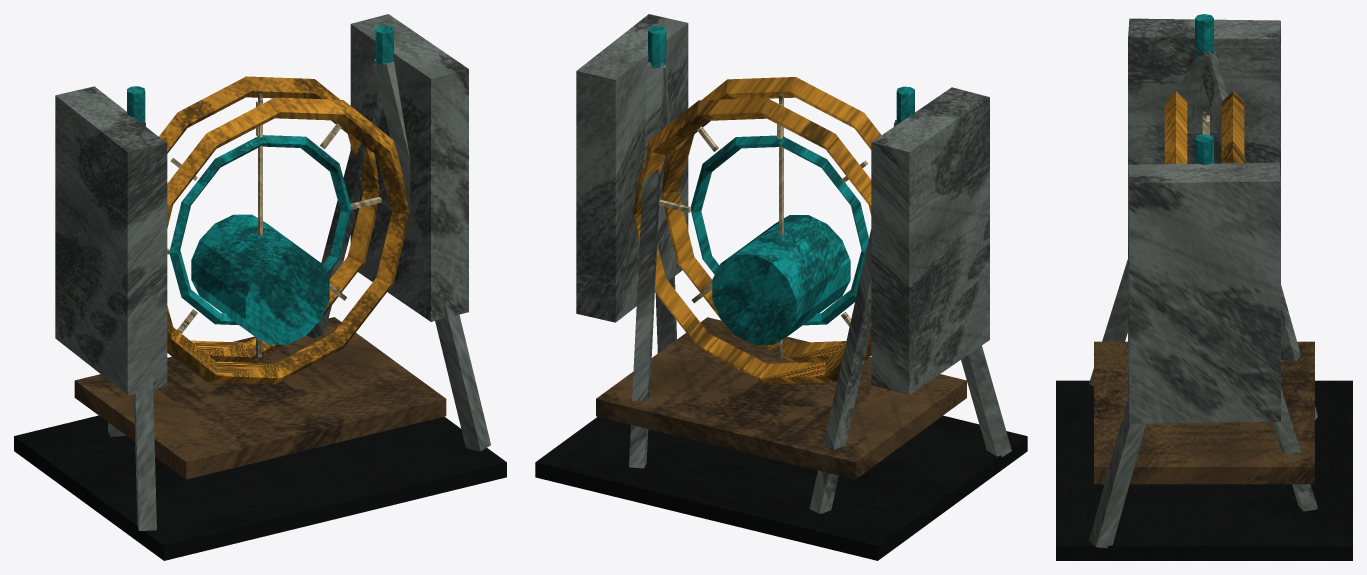
The model's file is lava-tube-survey-gantry.glb.
3 renders of one model, left to right at view 1: azimuth 30°, elevation 25°; view 2: azimuth 150°, elevation 25°; view 3: azimuth 270°, elevation 25°, orthographic.
Visible parts, largest first — view 1: lava-tube-survey-gantry; view 2: lava-tube-survey-gantry; view 3: lava-tube-survey-gantry.
Boxes of the visible parts, bbox=[...] form: lava-tube-survey-gantry: bbox=[14, 14, 506, 560]; lava-tube-survey-gantry: bbox=[535, 14, 1027, 560]; lava-tube-survey-gantry: bbox=[1056, 14, 1352, 560].
Size of the model in its own units: 6.37 by 6.99 by 4.7.
1 material, 1 textured.
